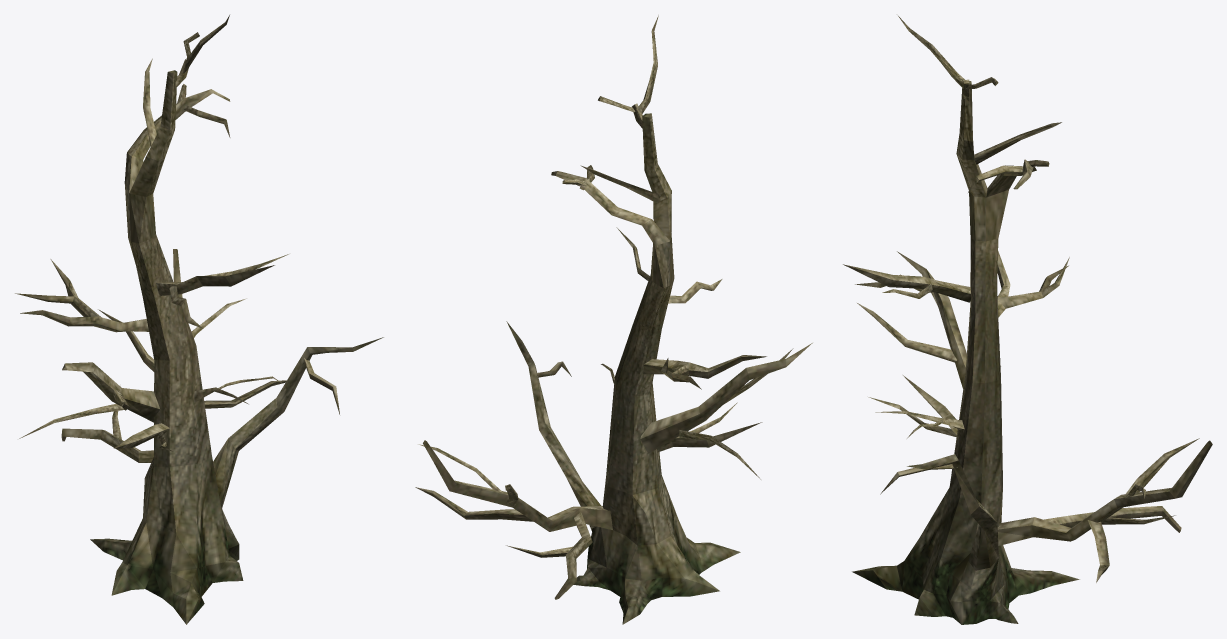
The model's file is Old_Tree_02.FBX.
3 views of the same model, side by side, from view 1: azimuth 30°, elevation 25°; view 2: azimuth 150°, elevation 25°; view 3: azimuth 270°, elevation 25° (orthographic). The views are drawn at different scales.
Parts seen in each view (by area): view 1: Old_Tree_02; view 2: Old_Tree_02; view 3: Old_Tree_02.
Part boxes in pixels (box(x1,y1,x2,y2)): Old_Tree_02: box(15, 15, 383, 624); Old_Tree_02: box(415, 15, 812, 624); Old_Tree_02: box(843, 16, 1212, 624).
Bounding box in the file's own units: 4567 × 7629 × 4339.
